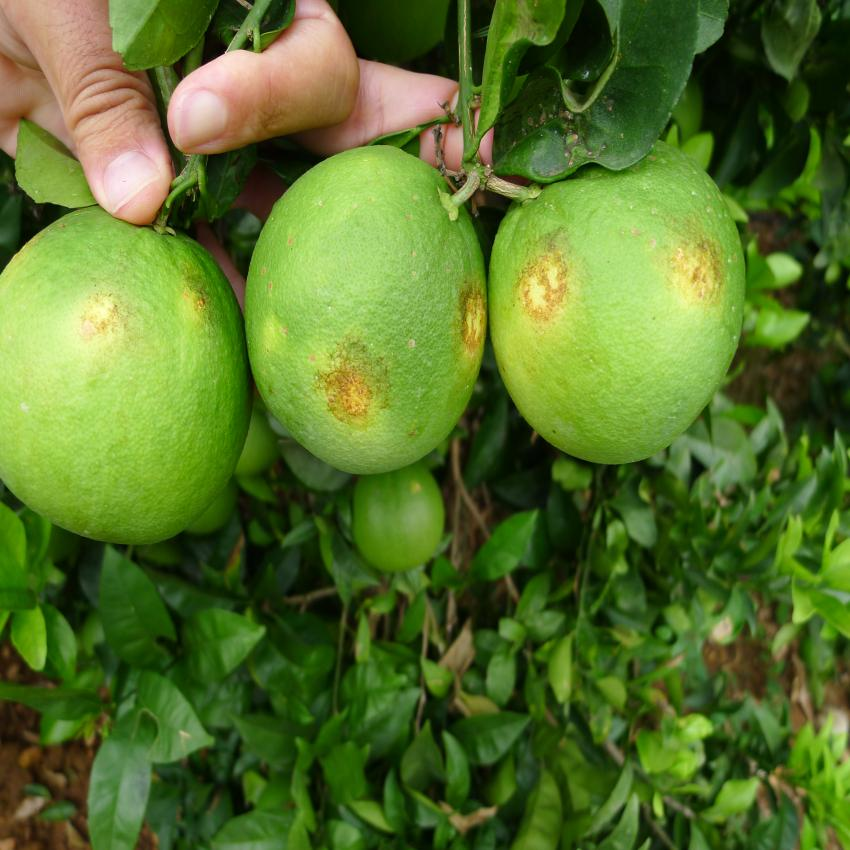Mal estado: (480, 96, 758, 482), (241, 123, 493, 526), (0, 181, 242, 566)
